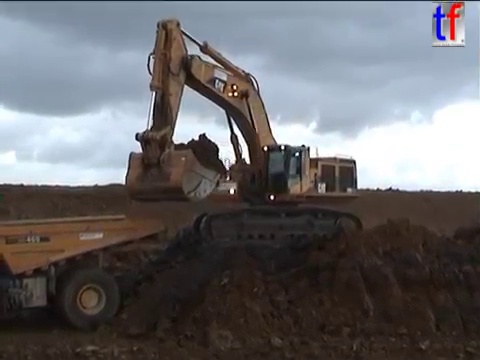excavator: (121, 15, 366, 253)
truck: (1, 213, 168, 333)
